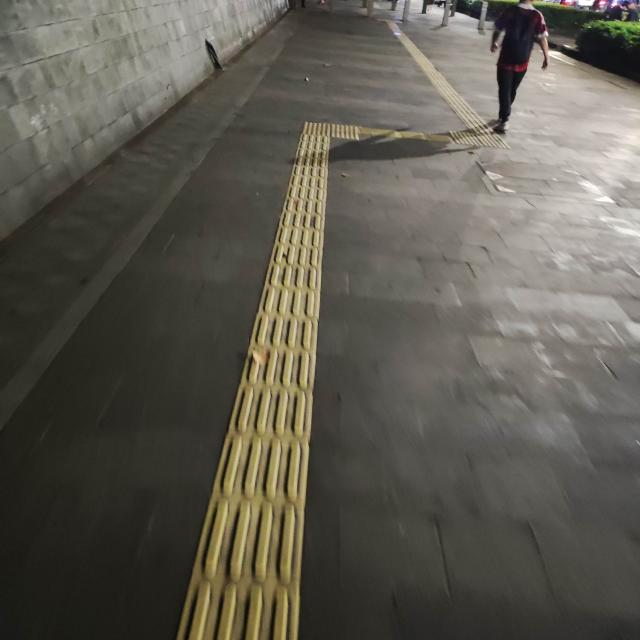kanan: (282, 111, 397, 148)
